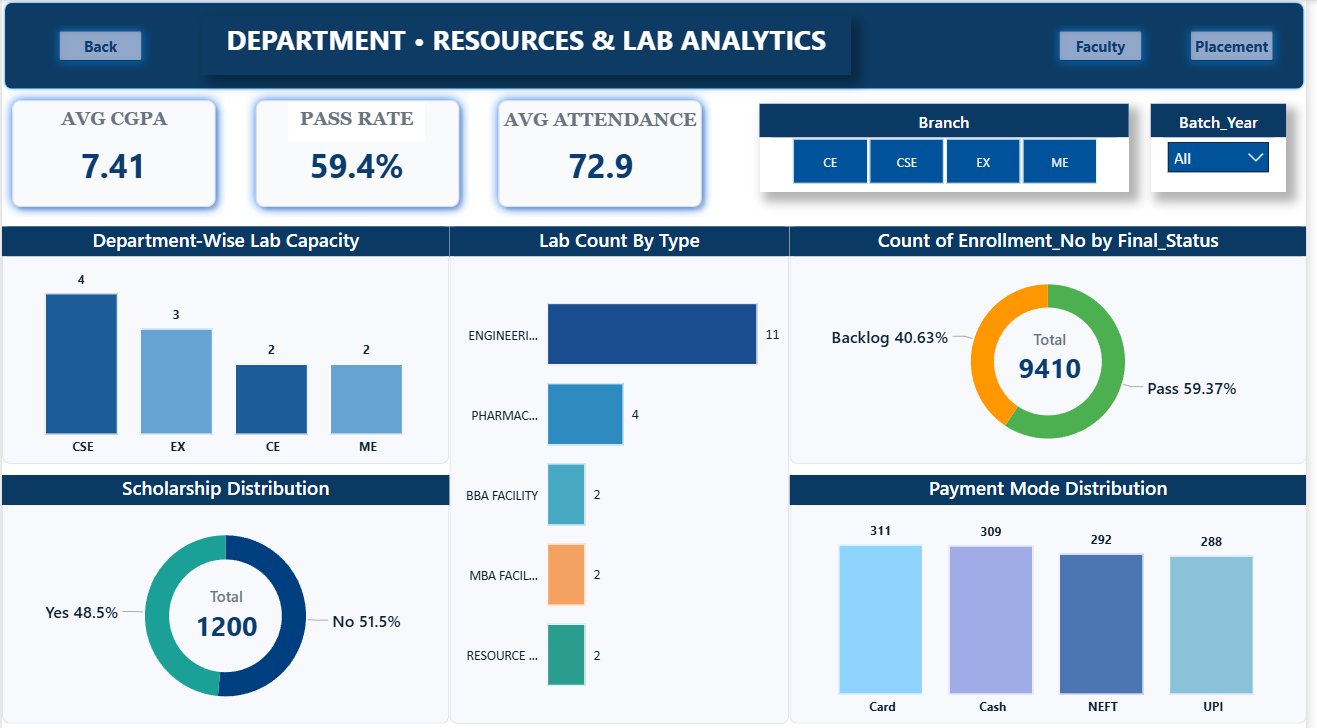

What the dashboard file says about the page in this screenshot:
{"tool":"powerbi","page":{"name":"Lab","canvas":[1280,720],"ordinal":1},"visuals":[{"type":"shape","box":[439.1,222.3,333.4,488.5],"z":0},{"type":"shape","box":[772.6,222.3,507.7,233.3],"z":1000},{"type":"textbox","box":[972.9,318.4,111.1,83.7],"z":2000},{"type":"donutChart","fields":{"Y":["CountNonNull(eng_accedmic_clean.Enrollment_No)"],"Category":["eng_accedmic_clean.Final_Status"]},"box":[772.6,222.3,507.7,233.3],"z":3000},{"type":"shape","box":[0,466.6,439.1,244.3],"z":4000},{"type":"textbox","box":[161.9,570.8,116.6,67.2],"z":5000},{"type":"donutChart","title":"Scholarship Distribution","fields":{"Category":["eng_fees_clean.Scholarship"],"Y":["CountNonNull(eng_fees_clean.Enrollment_No)"]},"box":[0,466.6,439.1,244.3],"z":6000},{"type":"shape","box":[0,0,1280.3,90],"z":7000},{"type":"actionButton","box":[1156.8,20.6,100.2,48],"z":8000},{"type":"actionButton","box":[1027.8,20.6,100.2,48],"z":9000},{"type":"actionButton","box":[46.7,20.6,100.2,48],"z":10000},{"type":"shape","box":[0,87.8,219.6,124.9],"z":11000},{"type":"textbox","box":[42.5,100.2,134.5,38.4],"z":12000},{"type":"card","title":"AVG CGPA","fields":{"Values":["Avg(eng_accedmic_clean.CGPA %)"]},"box":[46.7,138.6,126.2,48],"z":13000},{"type":"shape","box":[477.5,87.8,219.6,124.9],"z":14000},{"type":"textbox","box":[485.8,101.5,203.1,37],"z":15000},{"type":"card","fields":{"Values":["Avg(eng_attendence_clean.Attendence_%)"]},"box":[528.3,138.6,118,48],"z":16000},{"type":"textbox","box":[196.2,16.5,636.7,57.6],"z":17000},{"type":"shape","box":[238.8,87.8,219.6,124.9],"z":18000},{"type":"shape","box":[0,222.3,439.1,233.3],"z":19000},{"type":"shape","box":[772.6,466.6,507.7,244.3],"z":20000},{"type":"textbox","box":[281.3,100.2,134.5,38.4],"z":21000},{"type":"card","fields":{"Values":["All Students.pass rate"]},"box":[281.3,138.6,134.5,48],"z":22000},{"type":"clusteredColumnChart","title":"Department-Wise Lab Capacity","fields":{"Y":["CountNonNull(lab_clean.ID)"],"Category":["lab_clean.Branch"]},"box":[0,222.3,439.1,233.3],"z":23000},{"type":"clusteredColumnChart","title":"Payment Mode Distribution","fields":{"Category":["eng_fees_clean.Payment_Mode"],"Y":["CountNonNull(eng_fees_clean.Enrollment_No)"]},"box":[772.6,466.6,507.7,244.3],"z":24000},{"type":"slicer","title":"Branch","fields":{"Values":["Eng_data_clean.Branch"]},"box":[743.7,101.5,362.3,86.4],"z":25000},{"type":"slicer","title":"Batch_Year","fields":{"Values":["Eng_data_clean.Batch_Year"]},"box":[1128,101.5,133.1,86.4],"z":26000},{"type":"clusteredBarChart","title":"Lab Count By Type","fields":{"Category":["lab_clean.Type"],"Y":["CountNonNull(lab_clean.ID)"]},"box":[439.1,222.3,333.4,488.5],"z":27000}]}

Visuals, with their boxes in screenshot pixels (x1, y1, x2, y2), scaled from the page's 1280x720 canvas onto the 1317x728 screenshot:
shape: detection(452, 225, 795, 719)
shape: detection(795, 225, 1316, 461)
textbox: detection(1001, 322, 1115, 407)
donutChart - CountNonNull(eng_accedmic_clean.Enrollment_No) x eng_accedmic_clean.Final_Status: detection(795, 225, 1316, 461)
shape: detection(0, 472, 452, 719)
textbox: detection(167, 577, 287, 645)
"Scholarship Distribution" donutChart: detection(0, 472, 452, 719)
shape: detection(0, 0, 1316, 91)
actionButton: detection(1190, 21, 1293, 69)
actionButton: detection(1058, 21, 1161, 69)
actionButton: detection(48, 21, 151, 69)
shape: detection(0, 89, 226, 215)
textbox: detection(44, 101, 182, 140)
"AVG CGPA" card: detection(48, 140, 178, 189)
shape: detection(491, 89, 717, 215)
textbox: detection(500, 103, 709, 140)
card - Avg(eng_attendence_clean.Attendence_%): detection(544, 140, 665, 189)
textbox: detection(202, 17, 857, 75)
shape: detection(246, 89, 472, 215)
shape: detection(0, 225, 452, 461)
shape: detection(795, 472, 1316, 719)
textbox: detection(289, 101, 428, 140)
card - All Students.pass rate: detection(289, 140, 428, 189)
"Department-Wise Lab Capacity" clusteredColumnChart: detection(0, 225, 452, 461)
"Payment Mode Distribution" clusteredColumnChart: detection(795, 472, 1316, 719)
"Branch" slicer: detection(765, 103, 1138, 190)
"Batch_Year" slicer: detection(1161, 103, 1298, 190)
"Lab Count By Type" clusteredBarChart: detection(452, 225, 795, 719)
